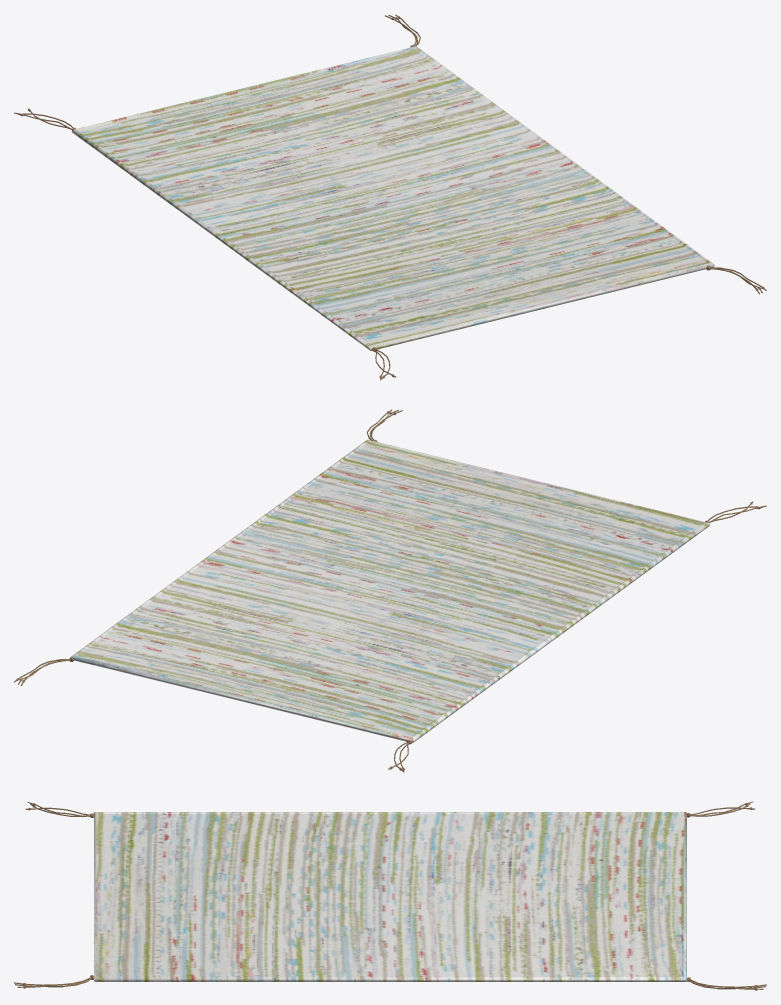
Rendered from tanum_dywan_tkany_na_pasko_30212675.glb.
3 renders of one model, top to bottom at view 1: azimuth 30°, elevation 25°; view 2: azimuth 150°, elevation 25°; view 3: azimuth 270°, elevation 25°, orthographic.
Parts seen in each view (by area): view 1: tanum_dywan_tkany_na_pasko_30212675; view 2: tanum_dywan_tkany_na_pasko_30212675; view 3: tanum_dywan_tkany_na_pasko_30212675.
Boxes of the visible parts, x1,y1,x2,y2 form: tanum_dywan_tkany_na_pasko_30212675: [14, 14, 766, 380]; tanum_dywan_tkany_na_pasko_30212675: [14, 409, 766, 772]; tanum_dywan_tkany_na_pasko_30212675: [14, 801, 766, 990].
Size of the model in its own units: 0.6764 by 0.00943 by 1.14.
Materials: 1 (1 with a texture image).
